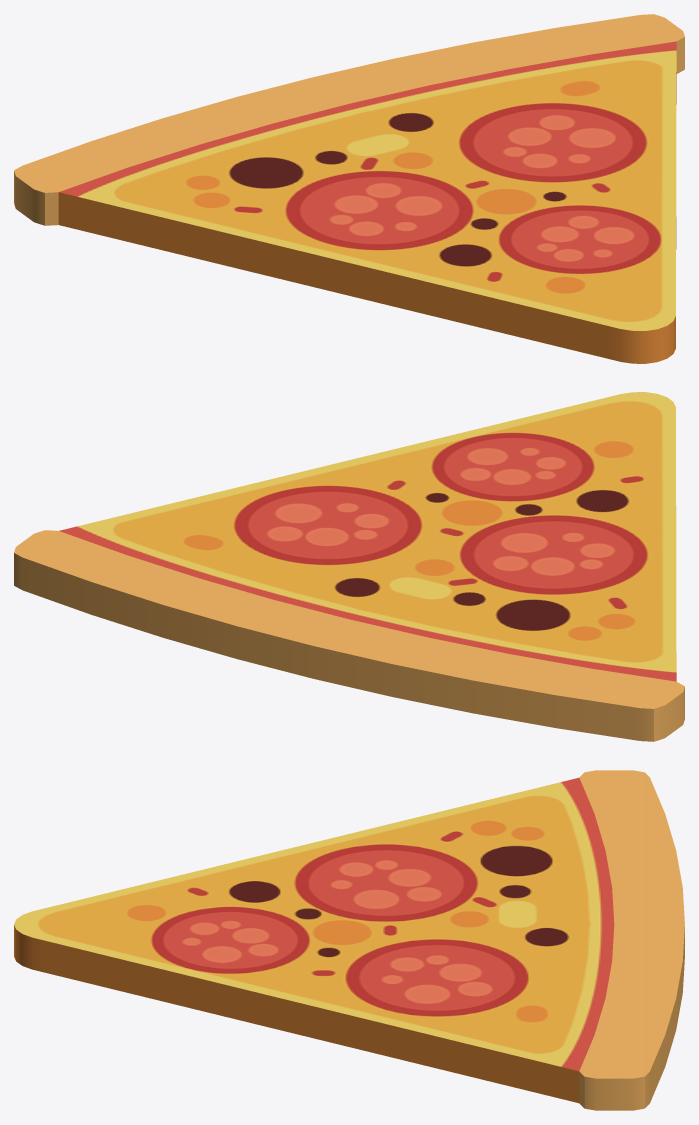
The model's file is Pizza_Slice.glb.
3 views of the same model, one above another, from view 1: azimuth 30°, elevation 25°; view 2: azimuth 150°, elevation 25°; view 3: azimuth 270°, elevation 25° (orthographic). The views are drawn at different scales.
Visible parts, largest first — view 1: Pizza_Slice; view 2: Pizza_Slice; view 3: Pizza_Slice.
Part boxes in pixels (x1,y1,x2,y2): Pizza_Slice: (14,14,684,363); Pizza_Slice: (14,392,684,741); Pizza_Slice: (14,770,684,1110).
Bounding box in the file's own units: 20.67 × 1 × 18.99.
1 material, 1 textured.
